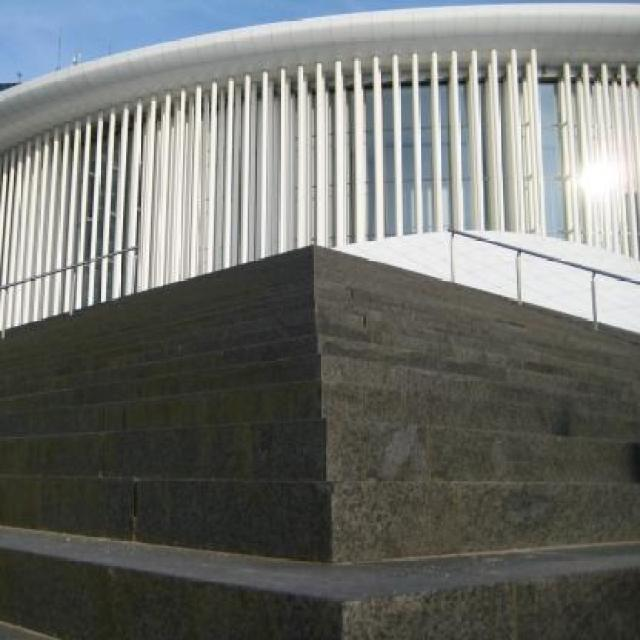stair: (0, 243, 640, 640)
